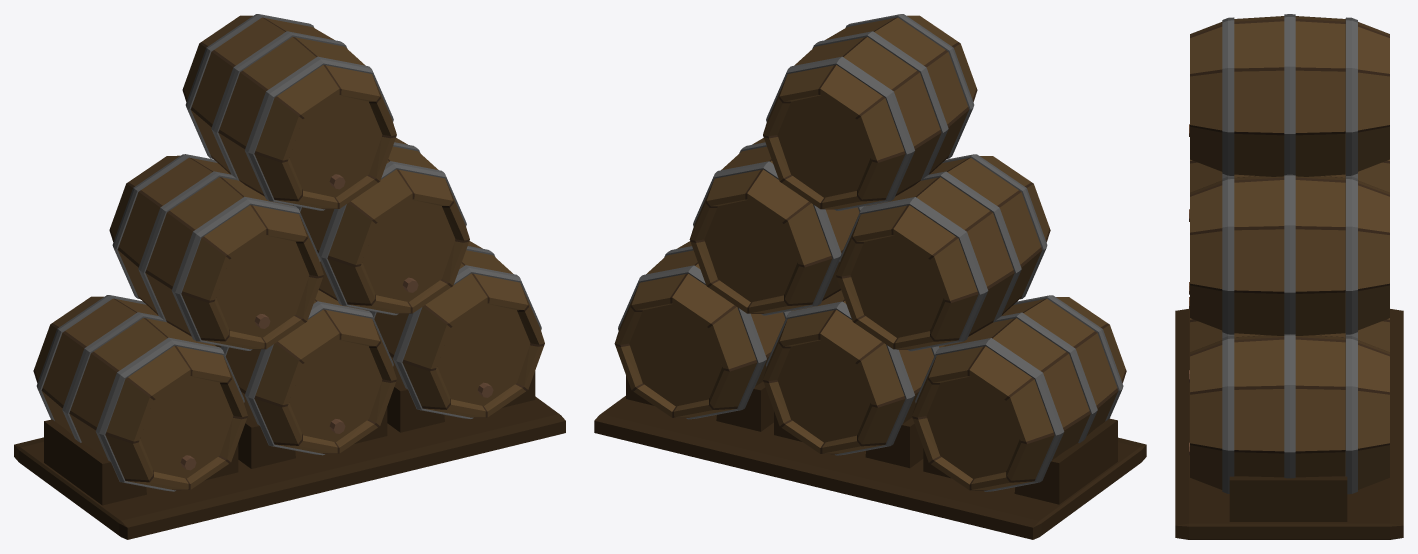
Rendered from Cellar.glb.
The picture shows the model from 3 angles, left to right: view 1: azimuth 30°, elevation 25°; view 2: azimuth 150°, elevation 25°; view 3: azimuth 270°, elevation 25°; orthographic projection.
Visible parts, largest first — view 1: world; view 2: world; view 3: world.
Part boxes in pixels (bbox=[...]): world: bbox=[14, 14, 565, 539]; world: bbox=[594, 14, 1146, 539]; world: bbox=[1175, 14, 1403, 539].
Size of the model in its own units: 461 by 406 by 202.
